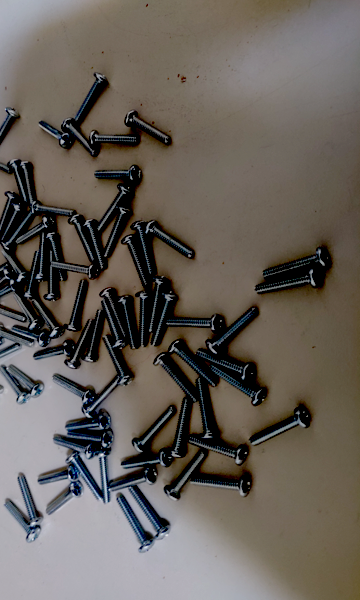longscrew: (205, 309, 262, 353), (204, 365, 266, 402), (250, 409, 310, 447), (169, 339, 215, 386), (130, 489, 169, 541), (116, 498, 152, 554), (195, 348, 258, 377), (263, 251, 331, 277), (253, 270, 321, 296), (125, 108, 174, 144), (134, 406, 174, 450), (168, 453, 207, 498), (154, 358, 195, 400), (191, 469, 251, 497), (189, 437, 249, 465), (146, 224, 196, 257), (77, 72, 109, 123), (70, 454, 103, 502), (131, 218, 157, 277), (171, 397, 195, 460), (13, 475, 42, 527), (3, 500, 38, 542), (196, 373, 218, 439), (102, 336, 131, 386), (99, 299, 128, 349), (149, 290, 174, 348), (60, 121, 99, 158), (96, 189, 131, 230), (102, 206, 128, 261), (99, 286, 128, 335), (81, 378, 118, 416), (123, 235, 149, 289), (28, 296, 63, 336), (164, 311, 224, 334), (61, 280, 86, 334), (64, 216, 93, 262), (81, 306, 104, 363), (65, 319, 91, 367), (84, 215, 106, 271), (0, 211, 33, 248), (52, 374, 94, 403), (47, 484, 81, 519), (14, 216, 54, 245), (36, 118, 73, 149), (108, 470, 157, 493), (116, 297, 137, 350), (0, 367, 29, 405), (10, 365, 44, 397), (12, 292, 40, 330), (9, 158, 29, 208), (121, 451, 173, 470), (65, 413, 111, 433), (11, 324, 51, 347), (49, 259, 100, 277), (133, 291, 149, 348), (32, 339, 73, 361), (150, 277, 167, 330), (51, 439, 96, 459), (68, 429, 113, 449), (23, 246, 40, 298), (0, 203, 21, 243), (0, 251, 27, 281), (90, 131, 140, 147), (49, 229, 64, 282), (0, 325, 34, 348), (34, 200, 76, 218), (40, 467, 79, 486), (94, 166, 143, 181), (0, 109, 18, 149), (36, 232, 50, 283), (99, 450, 111, 504), (0, 192, 14, 235), (0, 301, 27, 323), (20, 153, 32, 199), (46, 250, 56, 303), (0, 345, 21, 368), (0, 268, 13, 298), (0, 279, 19, 298), (0, 149, 10, 169), (0, 265, 7, 287), (0, 369, 4, 394), (0, 340, 3, 365)
